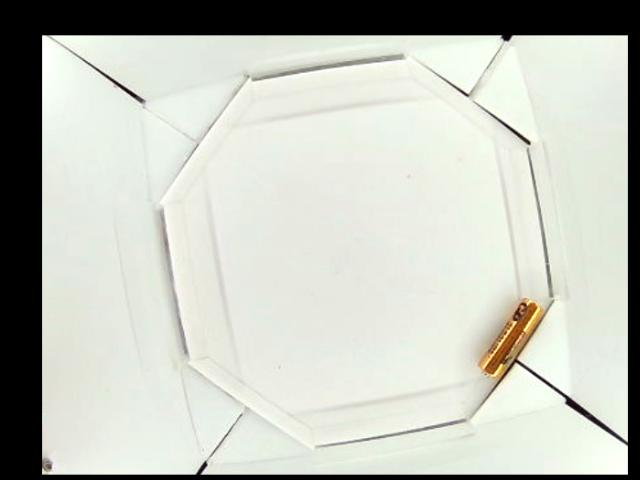Battery: (479, 298, 542, 377)
